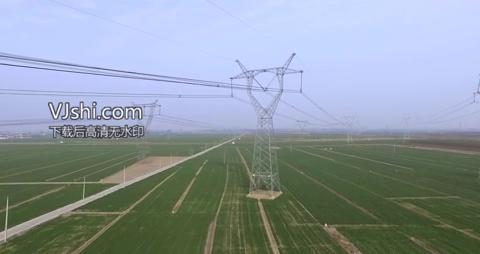tower_body: (222, 48, 312, 201)
tower_foot: (248, 162, 280, 196)
tower_head: (225, 51, 307, 118)
